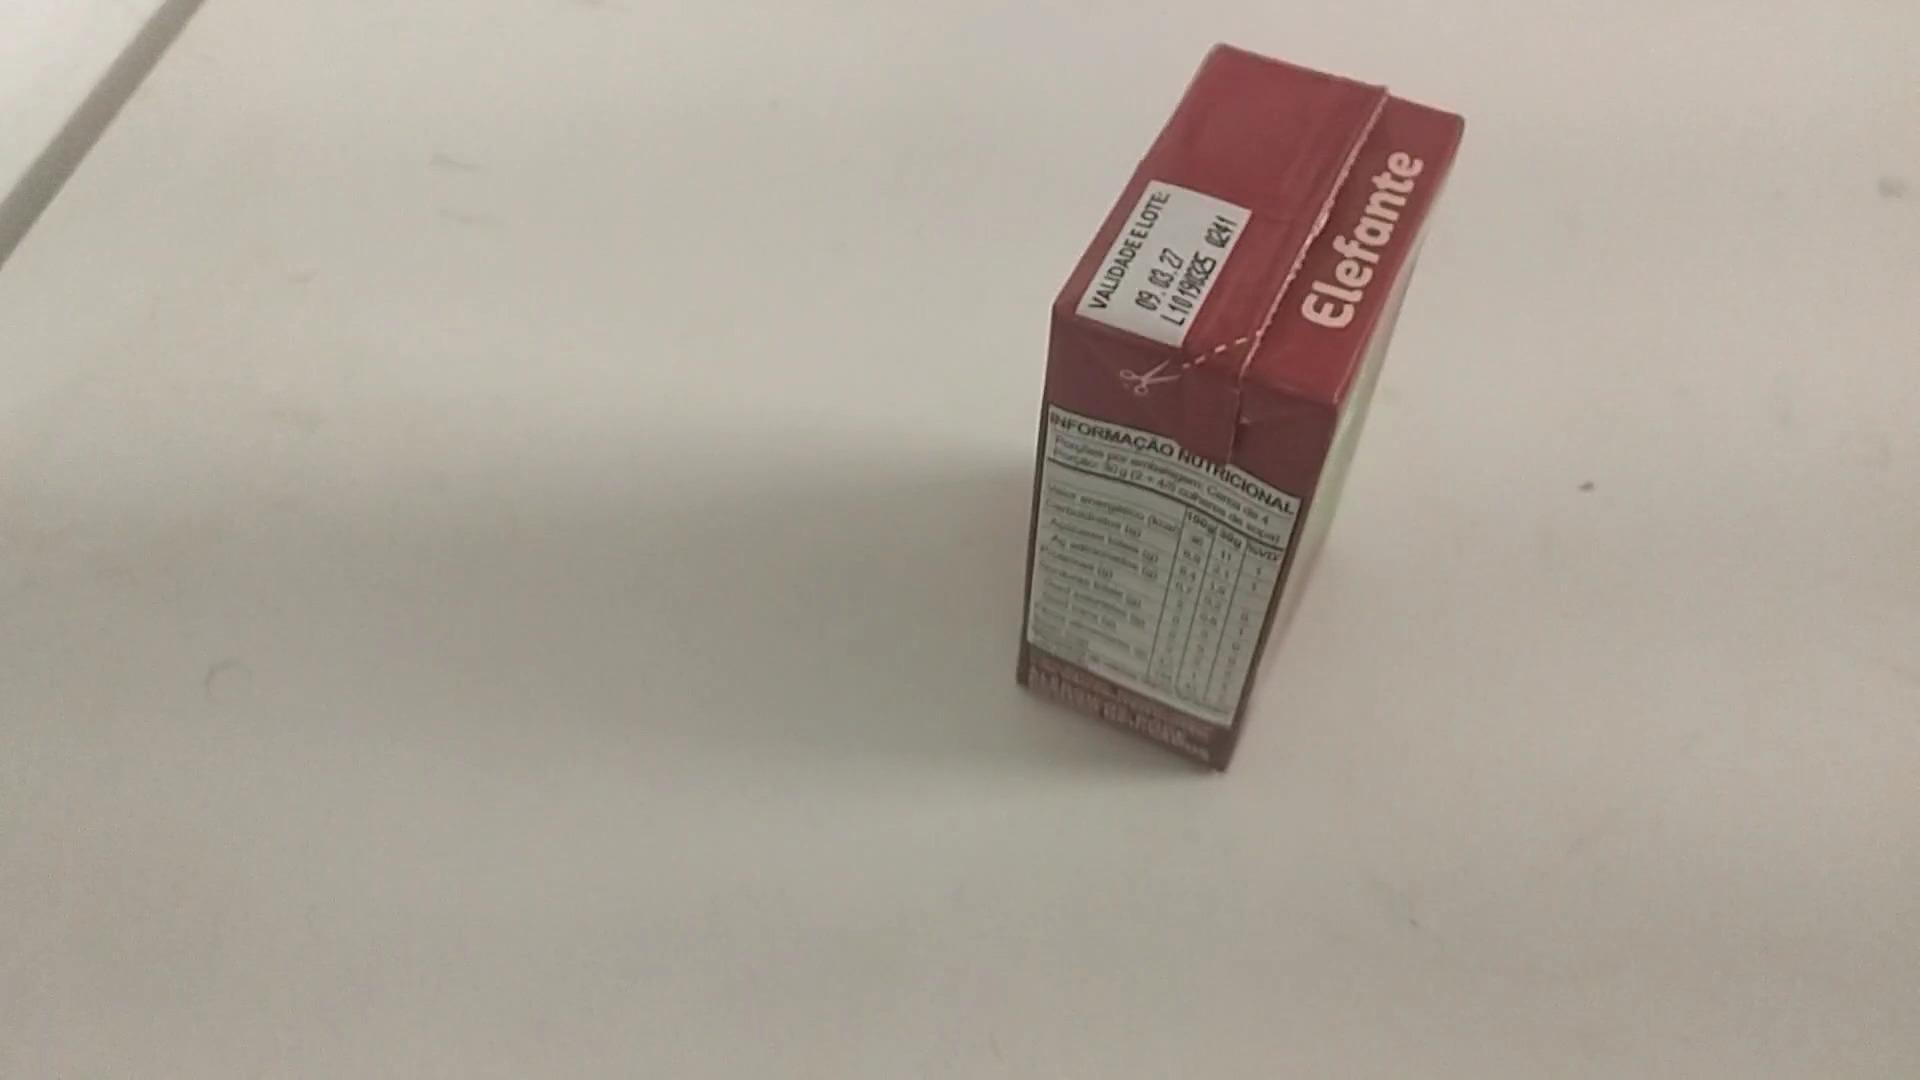tomate: (1011, 42, 1474, 782)
